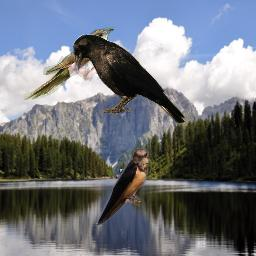Crow: (73, 34, 186, 124)
Cuckoo: (23, 27, 114, 100)
Swallow: (96, 148, 149, 228)
